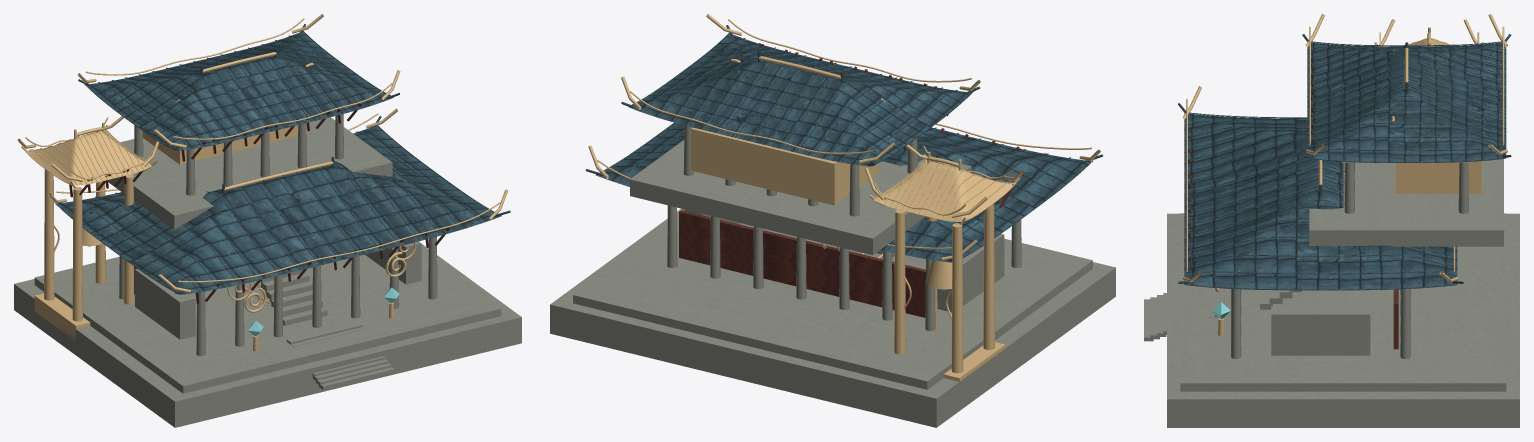
Rendered from QY-GEOGRAPHY-001-R66-region-04-native.glb.
The picture shows the model from 3 angles, left to right: view 1: azimuth 30°, elevation 25°; view 2: azimuth 150°, elevation 25°; view 3: azimuth 270°, elevation 25°; orthographic projection. The views are drawn at different scales.
Parts seen in each view (by area): view 1: 04_LOWER_QINGTILE_DEEP_FLYING_EAVES_CURVED_CELADON_ROOF_REAL, 04_LOWER_WHITE_STONE_PROCESSION_COURT, 04_ELEVATED_BLUE_FIRED_TILE_HIP_ROOF_CURVED_CELADON_ROOF_REA, 04_GREAT_WESTERN_NATIVE_STONE_FOUNDATION, 04_UPPER_STONE_ALTAR_DAIS, 04_BELL_TOWER_SINGLE_DARK_BLUE_FLYING_EAVE_CURVED_CELADON_RO, 04_IVORY_SIDE_ARCADE_BASE.001, 04_BELL_TOWER_VISIBLE_OCHRE_TIMBER_PIER, 04_BELL_TOWER_VISIBLE_OCHRE_TIMBER_PIER.001, 04_UPPER_IVORY_CARVED_BELL_SHRINE, 04_BELL_TOWER_STONE_SOCKET, 04_IVORY_SIDE_ARCADE_BASE (+13 smaller); view 2: 04_LOWER_WHITE_STONE_PROCESSION_COURT, 04_ELEVATED_BLUE_FIRED_TILE_HIP_ROOF_CURVED_CELADON_ROOF_REA, 04_GREAT_WESTERN_NATIVE_STONE_FOUNDATION, 04_UPPER_STONE_ALTAR_DAIS, 04_LOWER_QINGTILE_DEEP_FLYING_EAVES_CURVED_CELADON_ROOF_REAL, 04_WOODEN_U_SHAPE_OPEN_FRONT_WALL, 04_UPPER_IVORY_CARVED_BELL_SHRINE, 04_BELL_TOWER_SINGLE_DARK_BLUE_FLYING_EAVE_CURVED_CELADON_RO, 04_IVORY_SIDE_ARCADE_BASE.001, 04_BELL_TOWER_VISIBLE_OCHRE_TIMBER_PIER.001, 04_BELL_TOWER_VISIBLE_OCHRE_TIMBER_PIER.003, 04_BELL_TOWER_VISIBLE_OCHRE_TIMBER_PIER (+12 smaller); view 3: 04_LOWER_WHITE_STONE_PROCESSION_COURT, 04_LOWER_QINGTILE_DEEP_FLYING_EAVES_CURVED_CELADON_ROOF_REAL, 04_ELEVATED_BLUE_FIRED_TILE_HIP_ROOF_CURVED_CELADON_ROOF_REA, 04_GREAT_WESTERN_NATIVE_STONE_FOUNDATION, 04_UPPER_STONE_ALTAR_DAIS, 04_IVORY_SIDE_ARCADE_BASE, 04_UPPER_IVORY_CARVED_BELL_SHRINE, 04_LOWER_SHRINE_HOLLOW_PROCESSION_IVORY_COLUMN.007, 04_LOWER_SHRINE_HOLLOW_PROCESSION_IVORY_COLUMN.006, 04_UPPER_OPEN_GALLERY_HOLLOW_PROCESSION_IVORY_COLUMN.007, 04_UPPER_OPEN_GALLERY_HOLLOW_PROCESSION_IVORY_COLUMN.003, 04_LOWER_QINGTILE_DEEP_FLYING_EAVES_TILE_RIB_16 (+3 smaller).
Boxes of the visible parts, x1=… form: 04_LOWER_QINGTILE_DEEP_FLYING_EAVES_CURVED_CELADON_ROOF_REAL: x1=57, y1=125, x2=500, y2=294; 04_LOWER_WHITE_STONE_PROCESSION_COURT: x1=34, y1=250, x2=501, y2=393; 04_ELEVATED_BLUE_FIRED_TILE_HIP_ROOF_CURVED_CELADON_ROOF_REA: x1=86, y1=32, x2=393, y2=150; 04_GREAT_WESTERN_NATIVE_STONE_FOUNDATION: x1=14, y1=244, x2=521, y2=427; 04_UPPER_STONE_ALTAR_DAIS: x1=108, y1=117, x2=392, y2=229; 04_BELL_TOWER_SINGLE_DARK_BLUE_FLYING_EAVE_CURVED_CELADON_RO: x1=27, y1=131, x2=151, y2=185; 04_IVORY_SIDE_ARCADE_BASE.001: x1=135, y1=269, x2=195, y2=339; 04_BELL_TOWER_VISIBLE_OCHRE_TIMBER_PIER: x1=72, y1=186, x2=82, y2=321; 04_BELL_TOWER_VISIBLE_OCHRE_TIMBER_PIER.001: x1=44, y1=169, x2=54, y2=300; 04_UPPER_IVORY_CARVED_BELL_SHRINE: x1=143, y1=123, x2=308, y2=164; 04_BELL_TOWER_STONE_SOCKET: x1=34, y1=293, x2=90, y2=340; 04_IVORY_SIDE_ARCADE_BASE: x1=365, y1=241, x2=421, y2=284; 04_LOWER_WHITE_STONE_PROCESSION_COURT: x1=573, y1=217, x2=1092, y2=389; 04_ELEVATED_BLUE_FIRED_TILE_HIP_ROOF_CURVED_CELADON_ROOF_REA: x1=629, y1=33, x2=970, y2=166; 04_GREAT_WESTERN_NATIVE_STONE_FOUNDATION: x1=550, y1=208, x2=1115, y2=427; 04_UPPER_STONE_ALTAR_DAIS: x1=630, y1=140, x2=971, y2=255; 04_LOWER_QINGTILE_DEEP_FLYING_EAVES_CURVED_CELADON_ROOF_REAL: x1=596, y1=123, x2=1091, y2=262; 04_WOODEN_U_SHAPE_OPEN_FRONT_WALL: x1=679, y1=210, x2=925, y2=317; 04_UPPER_IVORY_CARVED_BELL_SHRINE: x1=691, y1=127, x2=878, y2=205; 04_BELL_TOWER_SINGLE_DARK_BLUE_FLYING_EAVE_CURVED_CELADON_RO: x1=874, y1=161, x2=1014, y2=221; 04_IVORY_SIDE_ARCADE_BASE.001: x1=937, y1=234, x2=1004, y2=312; 04_BELL_TOWER_VISIBLE_OCHRE_TIMBER_PIER.001: x1=951, y1=223, x2=963, y2=373; 04_BELL_TOWER_VISIBLE_OCHRE_TIMBER_PIER.003: x1=894, y1=209, x2=905, y2=354; 04_BELL_TOWER_VISIBLE_OCHRE_TIMBER_PIER: x1=983, y1=203, x2=994, y2=349; 04_LOWER_WHITE_STONE_PROCESSION_COURT: x1=1180, y1=213, x2=1506, y2=391; 04_LOWER_QINGTILE_DEEP_FLYING_EAVES_CURVED_CELADON_ROOF_REAL: x1=1184, y1=113, x2=1457, y2=290; 04_ELEVATED_BLUE_FIRED_TILE_HIP_ROOF_CURVED_CELADON_ROOF_REA: x1=1307, y1=42, x2=1506, y2=162; 04_GREAT_WESTERN_NATIVE_STONE_FOUNDATION: x1=1167, y1=213, x2=1519, y2=427; 04_UPPER_STONE_ALTAR_DAIS: x1=1309, y1=159, x2=1503, y2=246; 04_IVORY_SIDE_ARCADE_BASE: x1=1271, y1=306, x2=1370, y2=355; 04_UPPER_IVORY_CARVED_BELL_SHRINE: x1=1395, y1=161, x2=1481, y2=193; 04_LOWER_SHRINE_HOLLOW_PROCESSION_IVORY_COLUMN.007: x1=1400, y1=289, x2=1410, y2=358; 04_LOWER_SHRINE_HOLLOW_PROCESSION_IVORY_COLUMN.006: x1=1231, y1=289, x2=1241, y2=358; 04_UPPER_OPEN_GALLERY_HOLLOW_PROCESSION_IVORY_COLUMN.007: x1=1344, y1=162, x2=1354, y2=213; 04_UPPER_OPEN_GALLERY_HOLLOW_PROCESSION_IVORY_COLUMN.003: x1=1458, y1=162, x2=1468, y2=213; 04_LOWER_QINGTILE_DEEP_FLYING_EAVES_TILE_RIB_16: x1=1184, y1=284, x2=1457, y2=290.
Bounding box in the file's own units: 103 × 66.4 × 83.06.
Materials: 5 (3 with a texture image).
